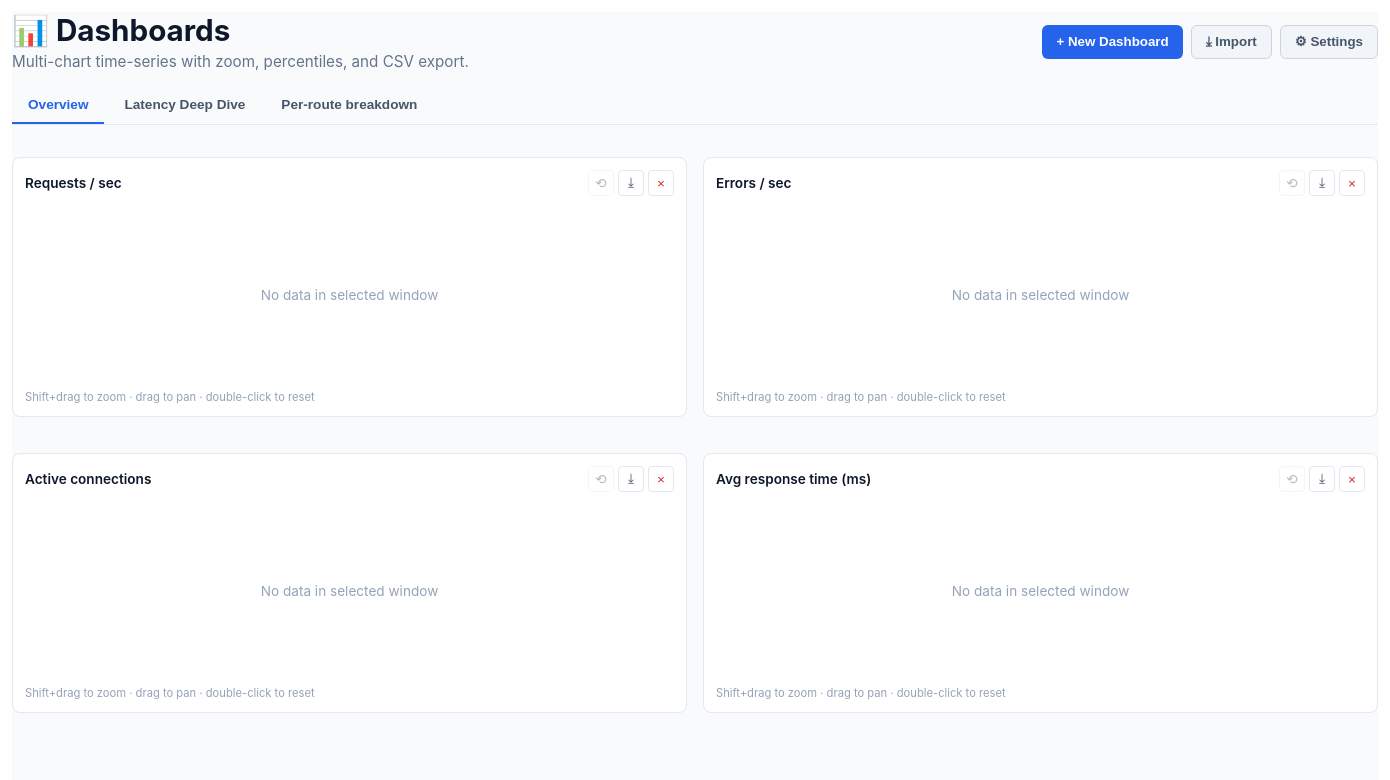
Test: DashboardsView › shows the create-bar when New Dashboard clicked
Click the button "+ New Dashboard" at (1113, 42), box [1042,24,1183,58]
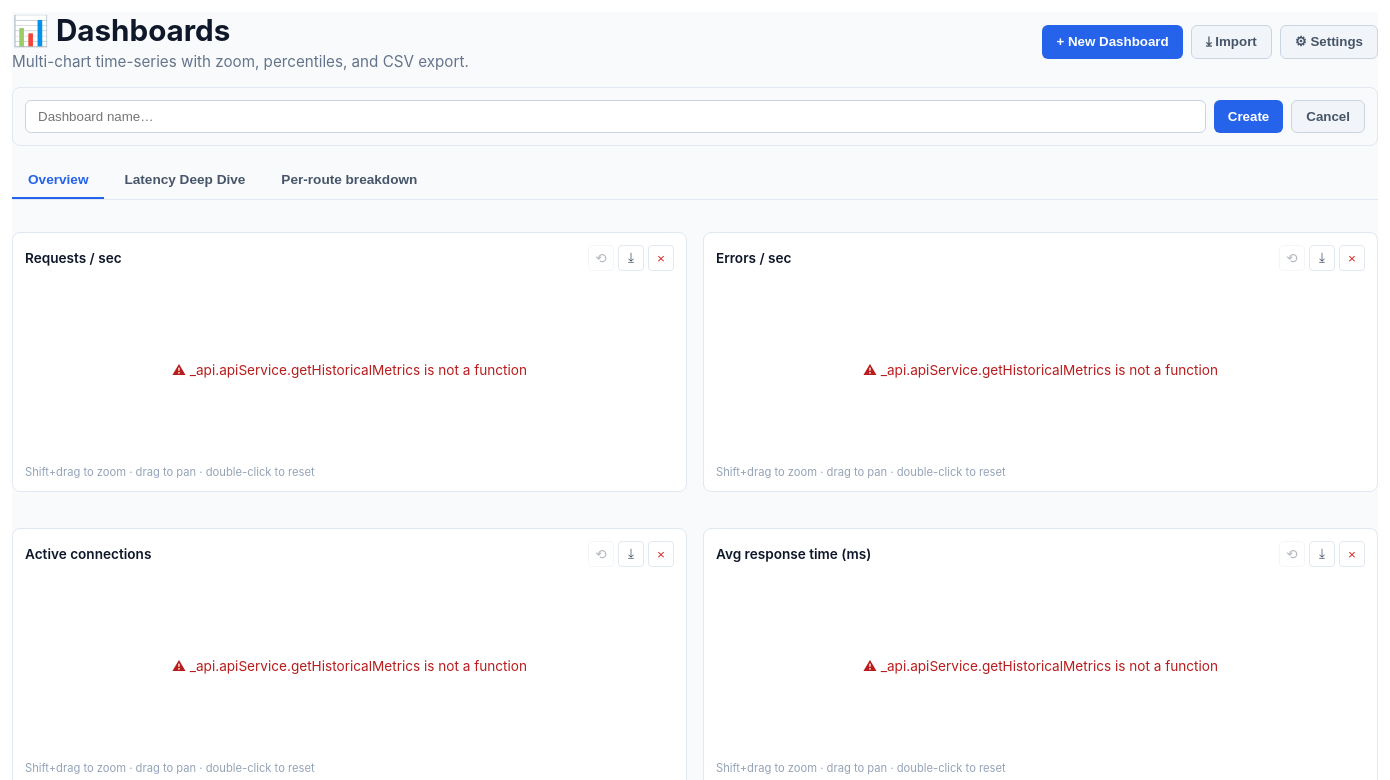
Check: the element with class "create-bar" is shown, box [12,87,1378,146]
